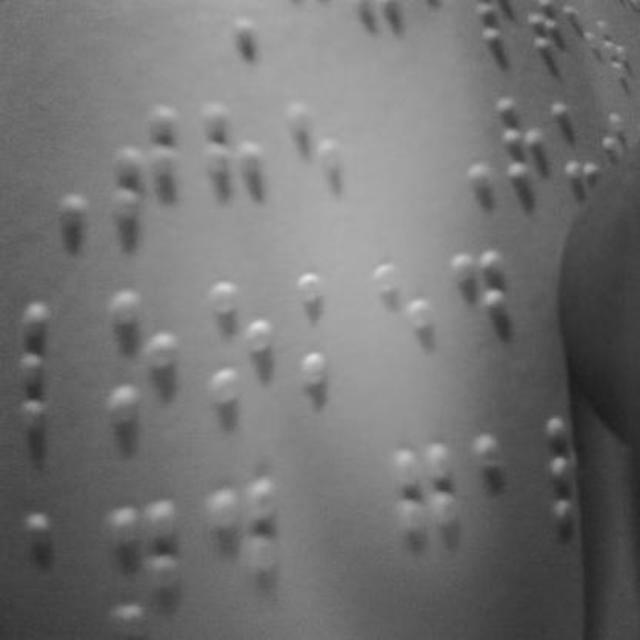braiile: (198, 472, 280, 640), (466, 418, 546, 580), (15, 496, 95, 640), (387, 438, 457, 598), (374, 259, 446, 409), (100, 288, 174, 432), (106, 498, 178, 640), (294, 266, 366, 406), (205, 273, 277, 411), (12, 296, 84, 429), (456, 250, 518, 398), (198, 94, 266, 226), (108, 98, 174, 232), (279, 90, 345, 218)
